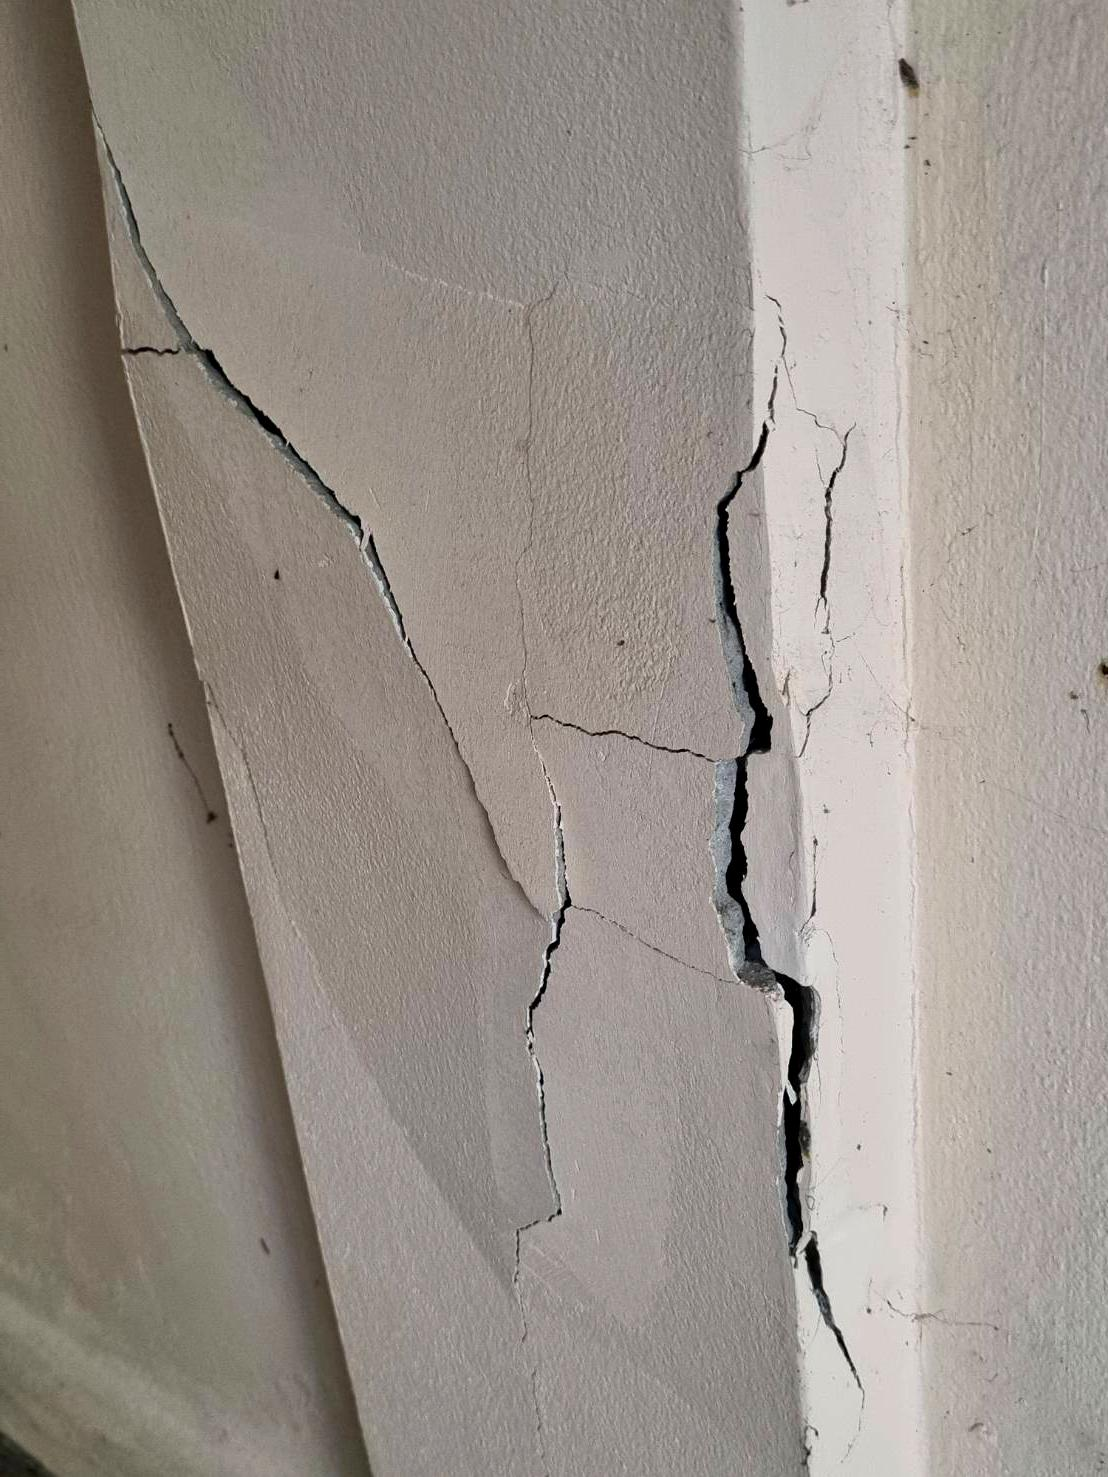High: (65, 80, 946, 1477)
